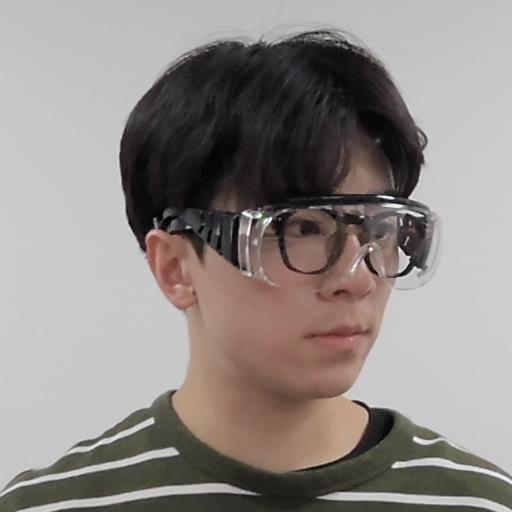glasses: (112, 40, 449, 410)
